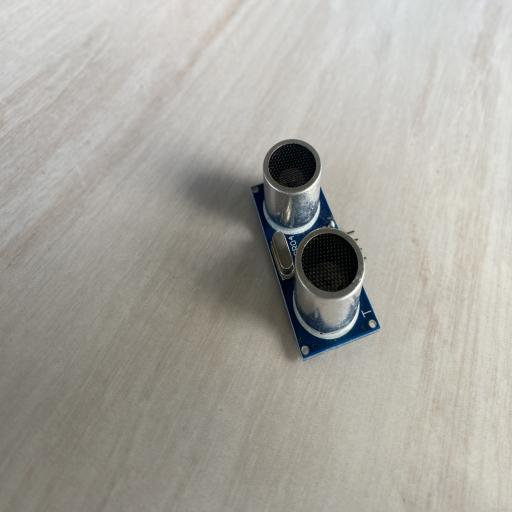Ultrasonic Sensor: (250, 138, 381, 362)
